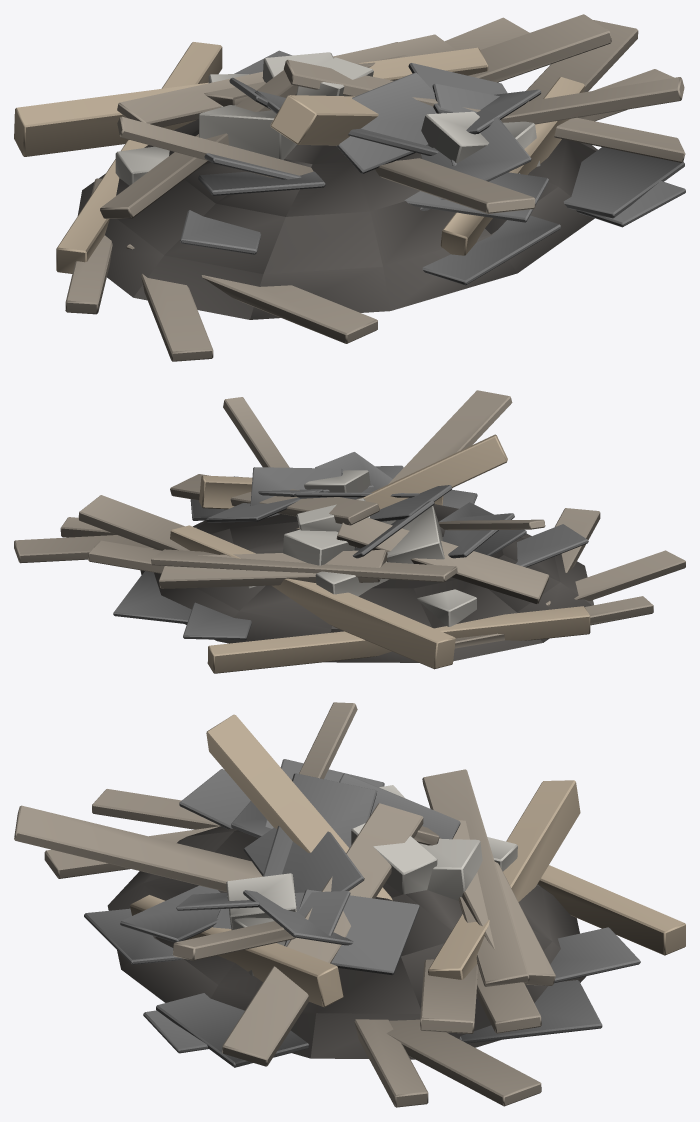
The model's file is rubble_planks.glb.
3 renders of one model, top to bottom at view 1: azimuth 30°, elevation 25°; view 2: azimuth 150°, elevation 25°; view 3: azimuth 270°, elevation 25°, orthographic. The views are drawn at different scales.
Parts seen in each view (by area): view 1: static; view 2: static; view 3: static.
Boxes of the visible parts, box(x1,y1,x2,y2) form: static: box(14, 14, 685, 361); static: box(14, 390, 685, 673); static: box(14, 702, 685, 1107).
Bounding box in the file's own units: 2 × 0.4834 × 1.7.
